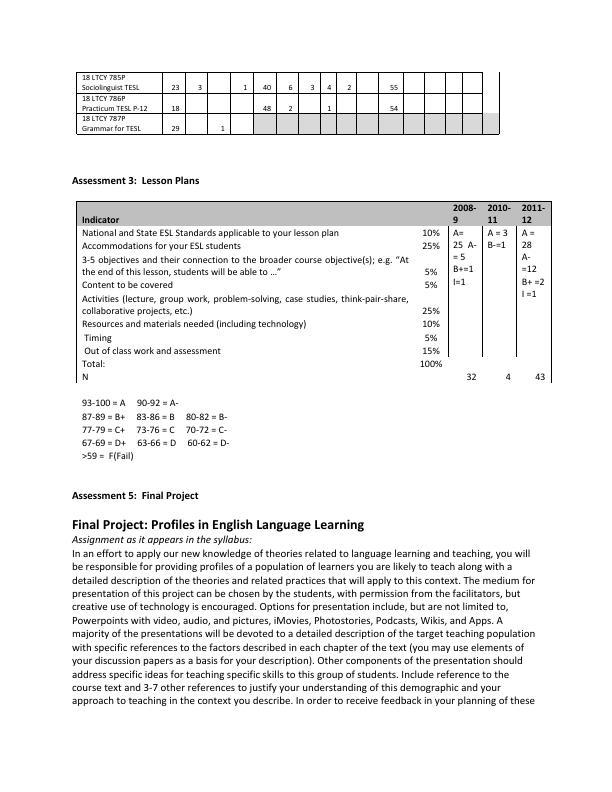table: (69, 194, 569, 393), (70, 66, 509, 142)
text: (66, 514, 546, 713), (76, 397, 241, 468), (63, 487, 204, 503), (65, 173, 205, 189)
